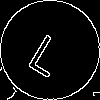L: (25, 25, 73, 79)
